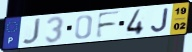0: (74, 14, 94, 40)
3: (44, 14, 66, 45)
4: (126, 8, 145, 36)
F: (94, 10, 122, 40)
J: (21, 17, 42, 46), (150, 7, 170, 33)
